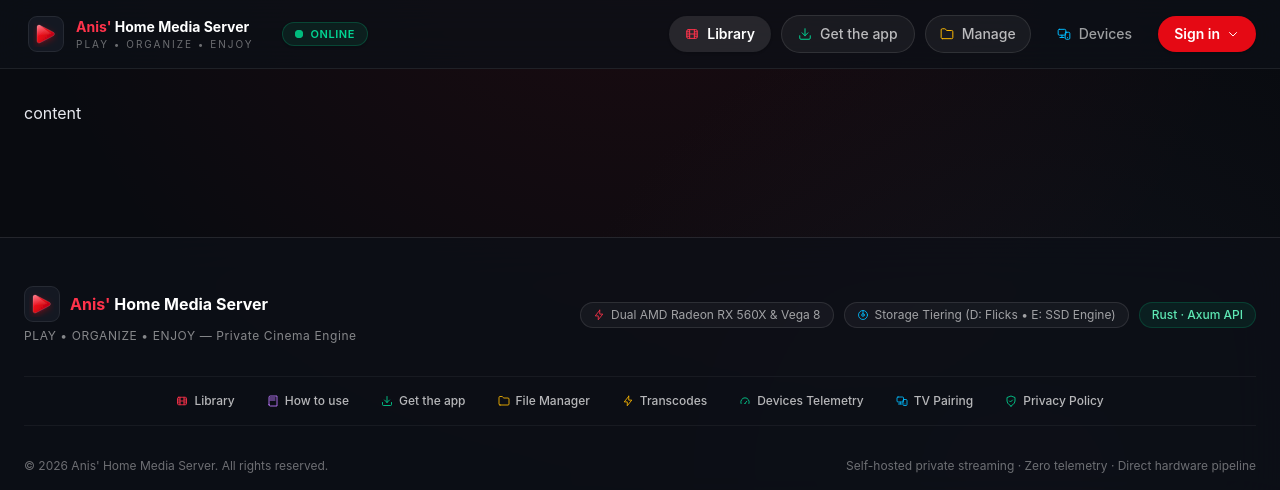
Test: AppShell sign-in header › offers the Admin PIN when OAuth is not configured
The image size is (1280, 490).
Click the button "Sign in" at (1207, 34), box [1158,16,1256,52]
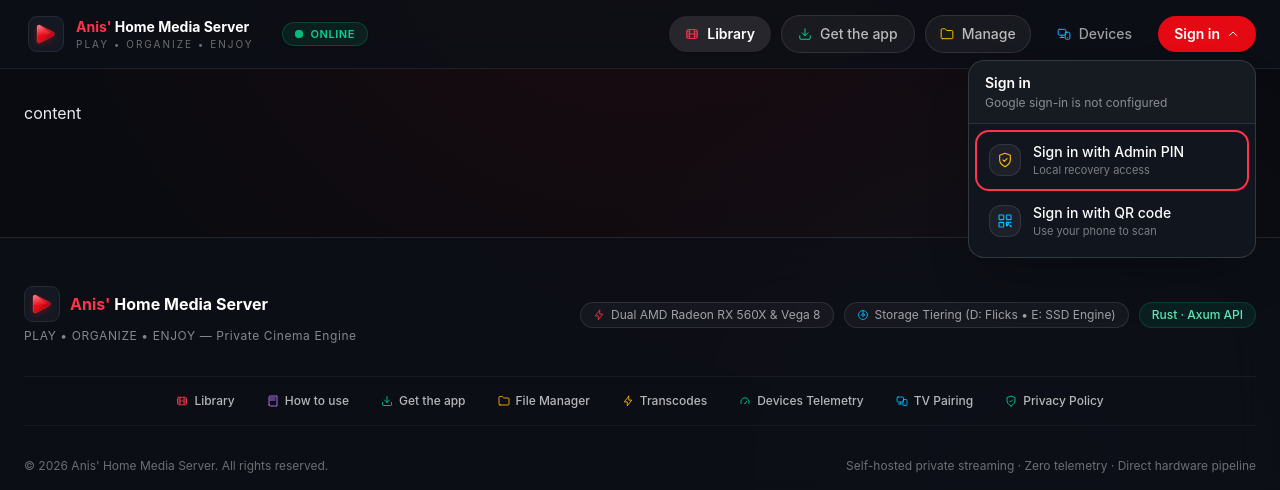
Expected: the menu item "Sign in with Admin PIN Local recovery access" is shown, [977,132,1247,188]
